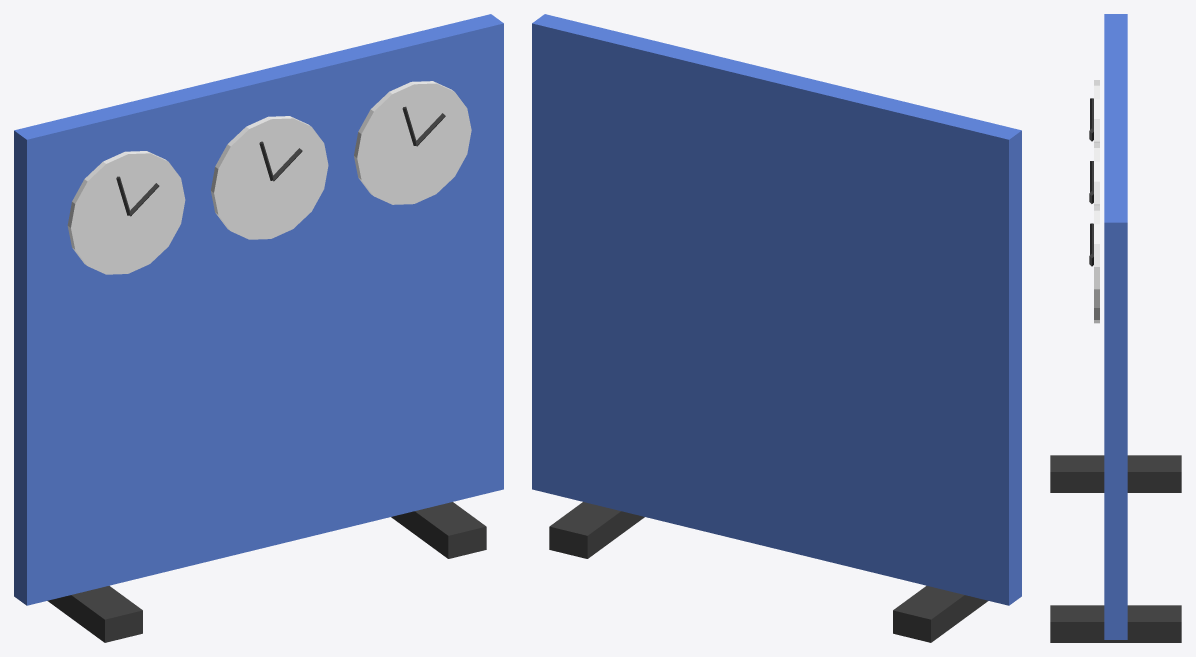
3 views of the same model, side by side, from view 1: azimuth 30°, elevation 25°; view 2: azimuth 150°, elevation 25°; view 3: azimuth 270°, elevation 25° (orthographic). The views are drawn at different scales.
Visible parts, largest first — view 1: Panel, Clock face, Clock face.002, Clock face.001, Panel foot.001, Panel foot; view 2: Panel, Panel foot.001, Panel foot; view 3: Panel, Panel foot.001, Panel foot, Clock face.002, Clock face.001, Clock face.
Part boxes in pixels (x1,y1,x2,y2): Panel: (14, 14, 503, 605); Clock face: (67, 151, 185, 274); Clock face.002: (354, 81, 471, 204); Clock face.001: (210, 116, 328, 239); Panel foot.001: (391, 502, 486, 558); Panel foot: (47, 585, 142, 642); Panel: (532, 14, 1021, 605); Panel foot.001: (549, 502, 644, 558); Panel foot: (893, 585, 988, 642); Panel: (1104, 14, 1127, 639); Panel foot.001: (1050, 605, 1181, 642); Panel foot: (1050, 455, 1181, 492); Clock face.002: (1094, 205, 1099, 323); Clock face.001: (1094, 142, 1099, 205); Clock face: (1094, 80, 1099, 142).
Size of the model in its own units: 1.5 by 1.48 by 0.4.
Materials: 1 (1 with a texture image).
